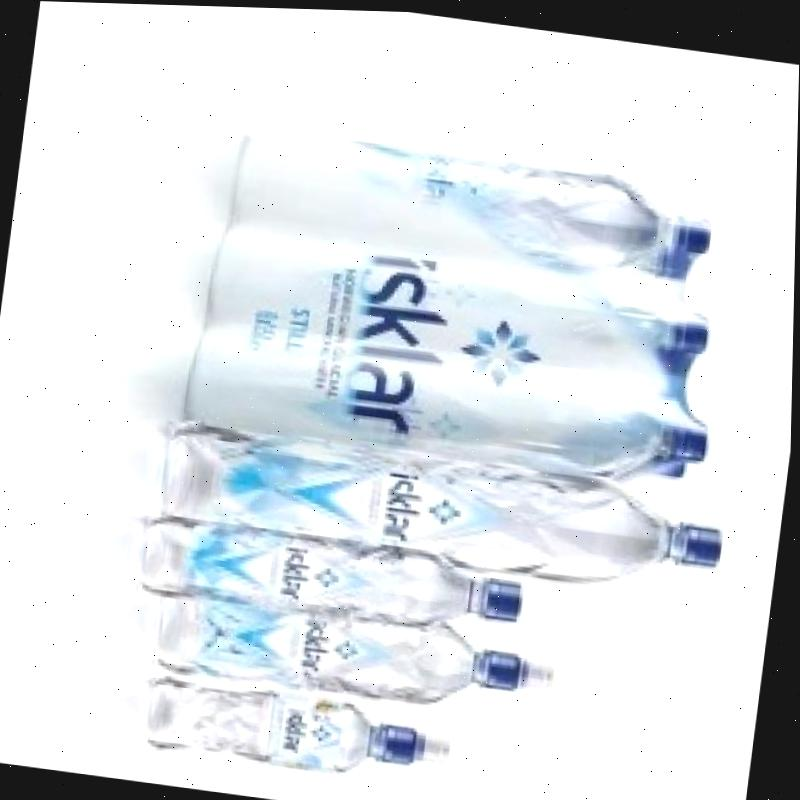botella: (161, 417, 734, 592), (200, 206, 719, 389), (184, 320, 716, 491), (232, 113, 718, 273), (146, 579, 561, 718), (137, 511, 539, 636), (140, 663, 455, 787), (635, 450, 693, 486), (661, 244, 698, 271)
